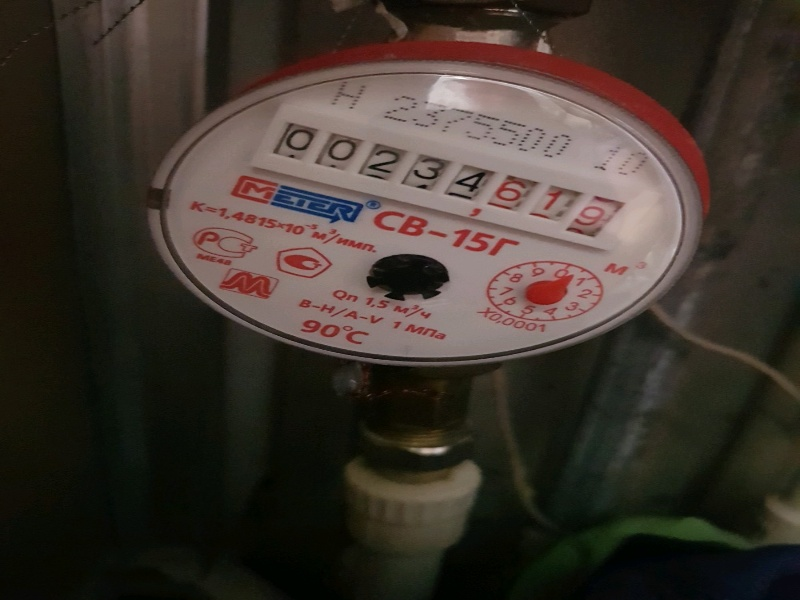meter: (275, 116, 610, 226)
